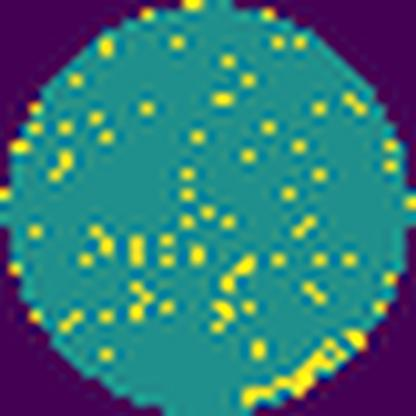Edge-Loc: (235, 330, 359, 407)
